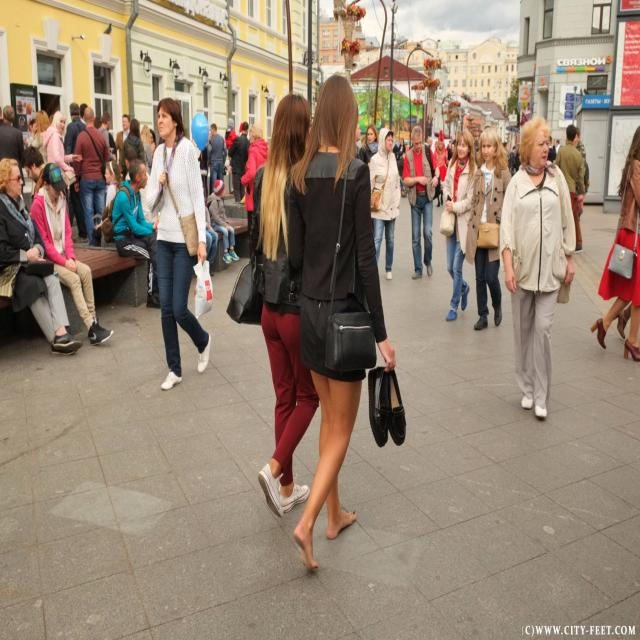No Safety Boots: (294, 523, 318, 570), (326, 511, 357, 539)
